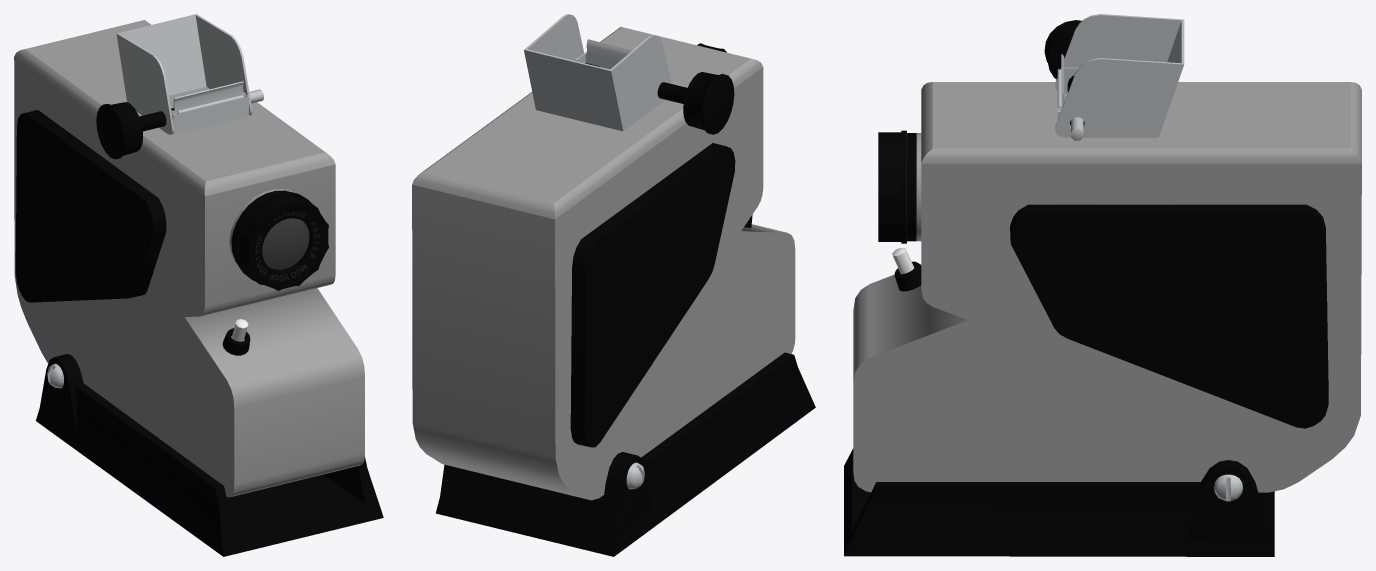
The picture shows the model from 3 angles, left to right: view 1: azimuth 30°, elevation 25°; view 2: azimuth 150°, elevation 25°; view 3: azimuth 270°, elevation 25°; orthographic projection. The views are drawn at different scales.
Visible parts, largest first — view 1: filmoscope_low; view 2: filmoscope_low; view 3: filmoscope_low.
Boxes of the visible parts, left/top/right/bottom form: filmoscope_low: left=14, top=14, right=383, bottom=556; filmoscope_low: left=412, top=14, right=815, bottom=556; filmoscope_low: left=844, top=14, right=1361, bottom=556.
Size of the model in its own units: 9.72 by 20.75 by 20.52.
Materials: 1 (1 with a texture image).
